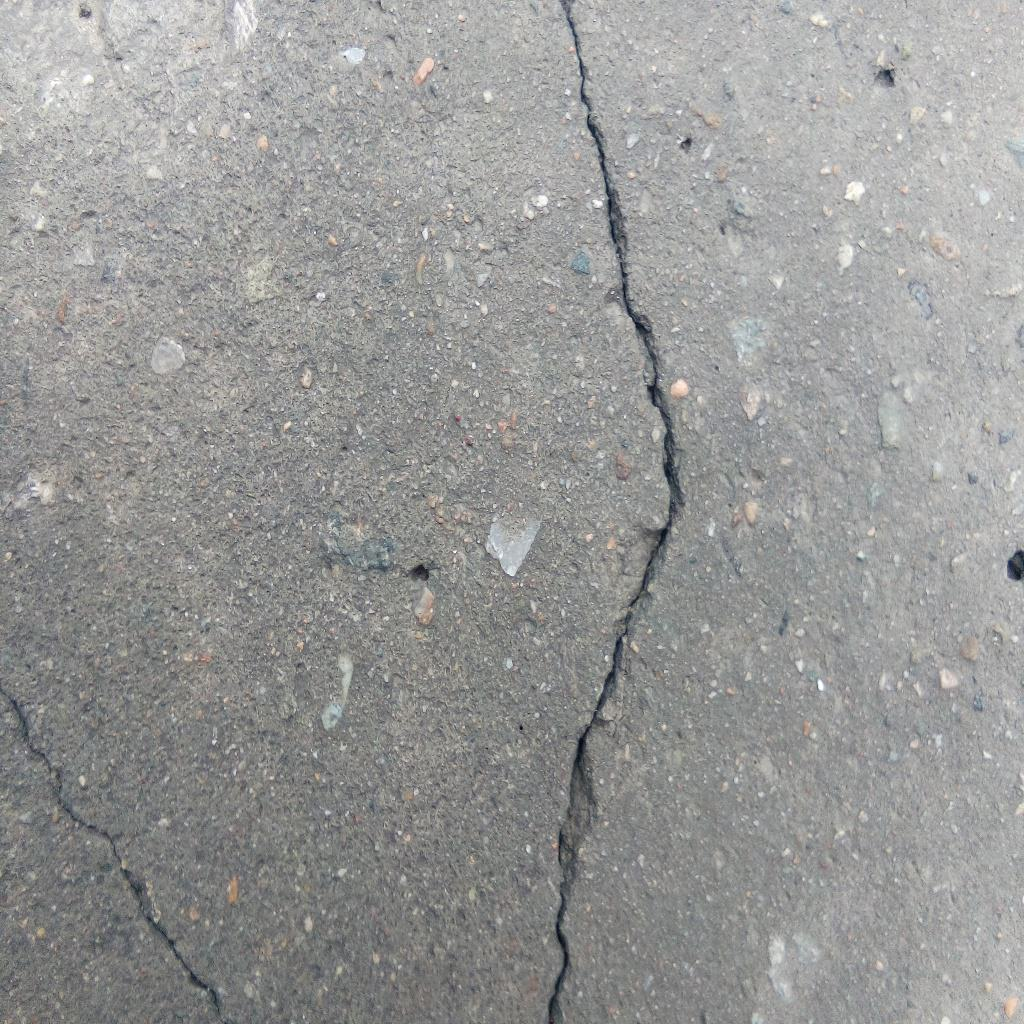Crack: (546, 1, 688, 1024), (1, 682, 224, 1024)
Spalling: (1004, 546, 1024, 581), (871, 67, 896, 88), (410, 564, 430, 582)
